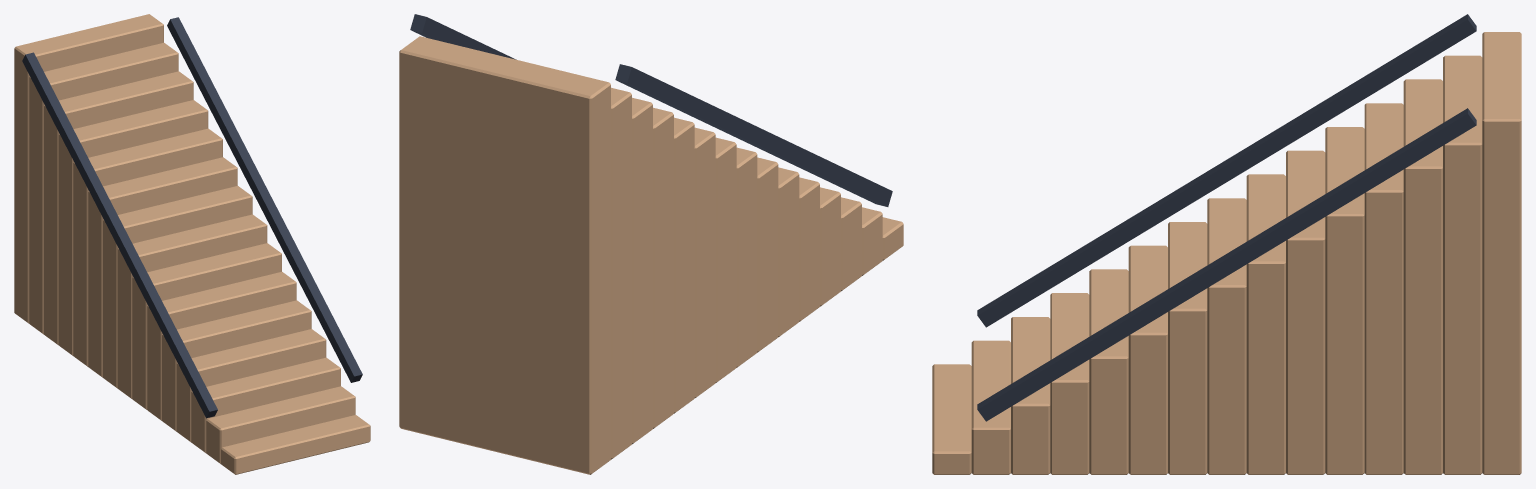
Rendered from terrace_stairs3.glb.
The picture shows the model from 3 angles, left to right: view 1: azimuth 30°, elevation 25°; view 2: azimuth 150°, elevation 25°; view 3: azimuth 270°, elevation 25°; orthographic projection. The views are drawn at different scales.
Visible parts, largest first — view 1: terrace_stairs_s14, terrace_stairs_s13, terrace_stairs_s12, terrace_stairs_s11, terrace_stairs_s10, terrace_stairs_s9, terrace_stairs_s8, terrace_stairs_s7, terrace_stairs_side_l, terrace_stairs_side_r, terrace_stairs_s6, terrace_stairs_s5 (+5 smaller); view 2: terrace_stairs_s14, terrace_stairs_s13, terrace_stairs_s12, terrace_stairs_s11, terrace_stairs_s10, terrace_stairs_side_l, terrace_stairs_s9, terrace_stairs_s8, terrace_stairs_s7, terrace_stairs_s6, terrace_stairs_s5, terrace_stairs_s4 (+5 smaller); view 3: terrace_stairs_s14, terrace_stairs_s13, terrace_stairs_s12, terrace_stairs_s11, terrace_stairs_s10, terrace_stairs_s9, terrace_stairs_side_l, terrace_stairs_side_r, terrace_stairs_s8, terrace_stairs_s7, terrace_stairs_s6, terrace_stairs_s5 (+5 smaller).
Boxes of the visible parts, bbox=[...] form: terrace_stairs_s14: bbox=[14, 14, 163, 323]; terrace_stairs_s13: bbox=[29, 42, 178, 334]; terrace_stairs_s12: bbox=[44, 71, 193, 344]; terrace_stairs_s11: bbox=[58, 100, 208, 355]; terrace_stairs_s10: bbox=[73, 128, 222, 366]; terrace_stairs_s9: bbox=[88, 157, 237, 377]; terrace_stairs_s8: bbox=[103, 186, 252, 388]; terrace_stairs_s7: bbox=[117, 214, 267, 398]; terrace_stairs_side_l: bbox=[22, 52, 217, 418]; terrace_stairs_side_r: bbox=[167, 17, 362, 382]; terrace_stairs_s6: bbox=[132, 243, 281, 409]; terrace_stairs_s5: bbox=[147, 272, 296, 420]; terrace_stairs_s14: bbox=[399, 36, 610, 474]; terrace_stairs_s13: bbox=[611, 87, 631, 459]; terrace_stairs_s12: bbox=[632, 97, 652, 444]; terrace_stairs_s11: bbox=[653, 107, 673, 428]; terrace_stairs_s10: bbox=[674, 117, 694, 413]; terrace_stairs_side_l: bbox=[615, 64, 892, 206]; terrace_stairs_s9: bbox=[694, 127, 715, 397]; terrace_stairs_s8: bbox=[715, 137, 736, 382]; terrace_stairs_s7: bbox=[736, 147, 757, 367]; terrace_stairs_s6: bbox=[757, 157, 778, 352]; terrace_stairs_s5: bbox=[778, 167, 799, 336]; terrace_stairs_s4: bbox=[799, 177, 819, 321]; terrace_stairs_s14: bbox=[1482, 32, 1521, 474]; terrace_stairs_s13: bbox=[1443, 55, 1482, 474]; terrace_stairs_s12: bbox=[1403, 79, 1442, 474]; terrace_stairs_s11: bbox=[1364, 103, 1403, 474]; terrace_stairs_s10: bbox=[1325, 127, 1364, 474]; terrace_stairs_s9: bbox=[1286, 150, 1325, 474]; terrace_stairs_side_l: bbox=[977, 14, 1476, 327]; terrace_stairs_side_r: bbox=[977, 108, 1476, 421]; terrace_stairs_s8: bbox=[1246, 174, 1285, 474]; terrace_stairs_s7: bbox=[1207, 198, 1246, 474]; terrace_stairs_s6: bbox=[1168, 222, 1207, 474]; terrace_stairs_s5: bbox=[1128, 245, 1167, 474].
Size of the model in its own units: 1.8 by 3.1 by 4.5.
